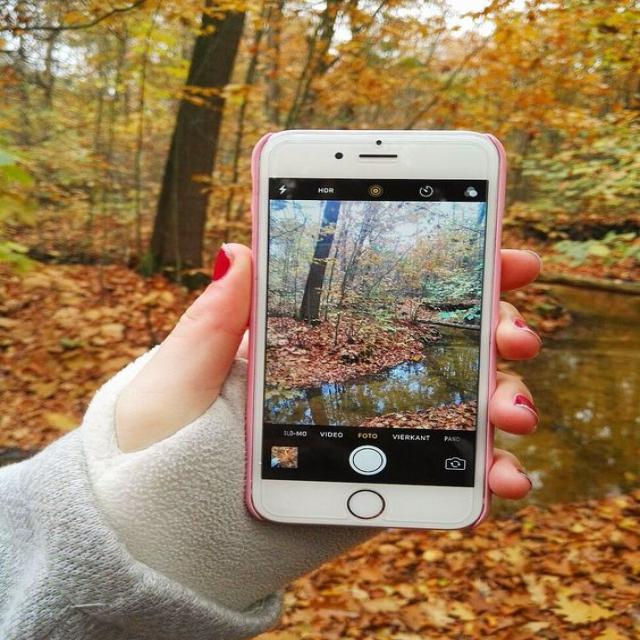phone: (235, 119, 510, 540)
